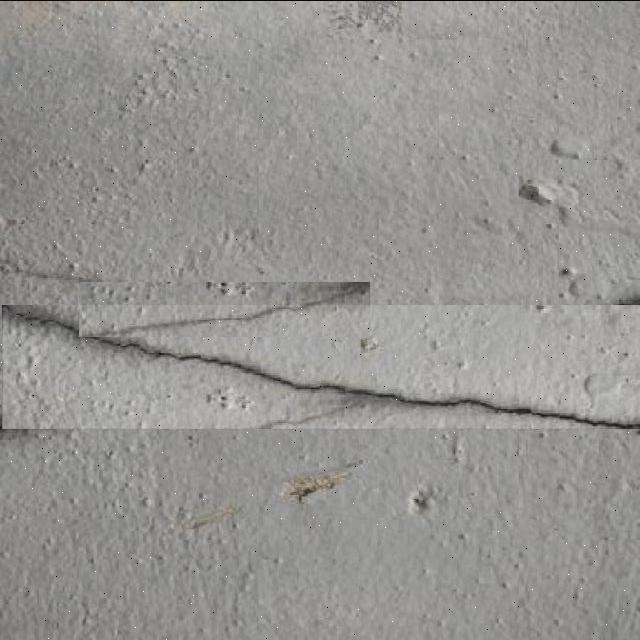crack: (1, 275, 640, 451)
